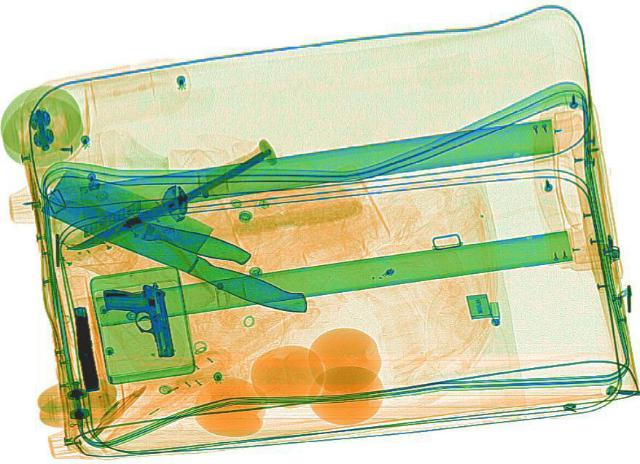Gun: (99, 279, 177, 360), (66, 304, 102, 389)
Knife: (27, 164, 339, 320), (61, 147, 279, 255), (32, 183, 254, 267)
